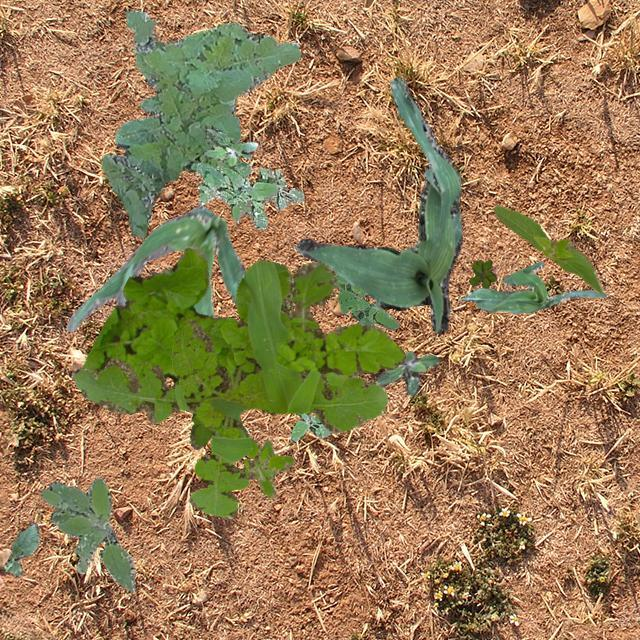crop: (296, 76, 462, 332), (64, 204, 244, 330), (492, 205, 602, 292), (460, 260, 604, 312), (3, 522, 38, 576)
weed: (70, 260, 387, 518), (80, 245, 404, 394), (100, 10, 300, 236), (40, 476, 134, 590), (195, 160, 304, 228), (332, 274, 398, 328), (240, 437, 294, 498), (374, 350, 440, 394), (204, 120, 256, 168), (288, 412, 334, 442), (188, 412, 212, 448), (468, 258, 496, 288)
